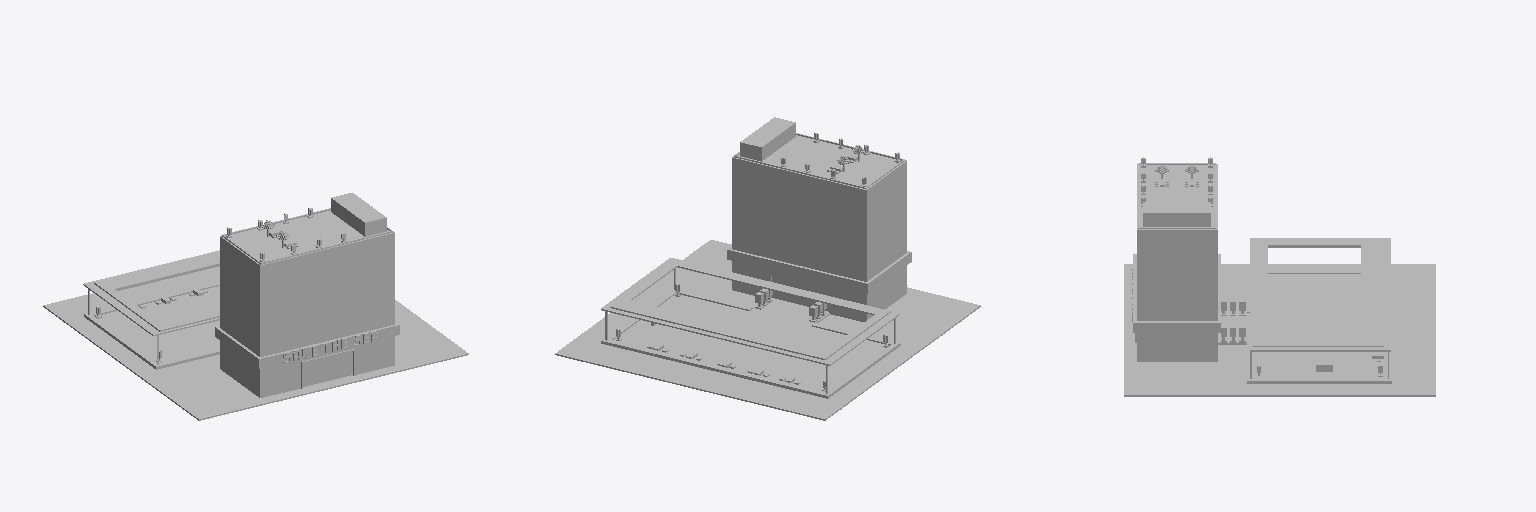
The model's file is hotel.obj.
The picture shows the model from 3 angles: view 1: azimuth 30°, elevation 25°; view 2: azimuth 150°, elevation 25°; view 3: azimuth 270°, elevation 25°; orthographic projection.
Visible parts, largest first — view 1: object 1; view 2: object 1; view 3: object 1.
Boxes of the visible parts, x1,y1,x2,y2 form: object 1: [43, 193, 468, 420]; object 1: [555, 117, 980, 420]; object 1: [1124, 157, 1435, 396].
Size of the model in its own units: 20 by 10.6 by 20.